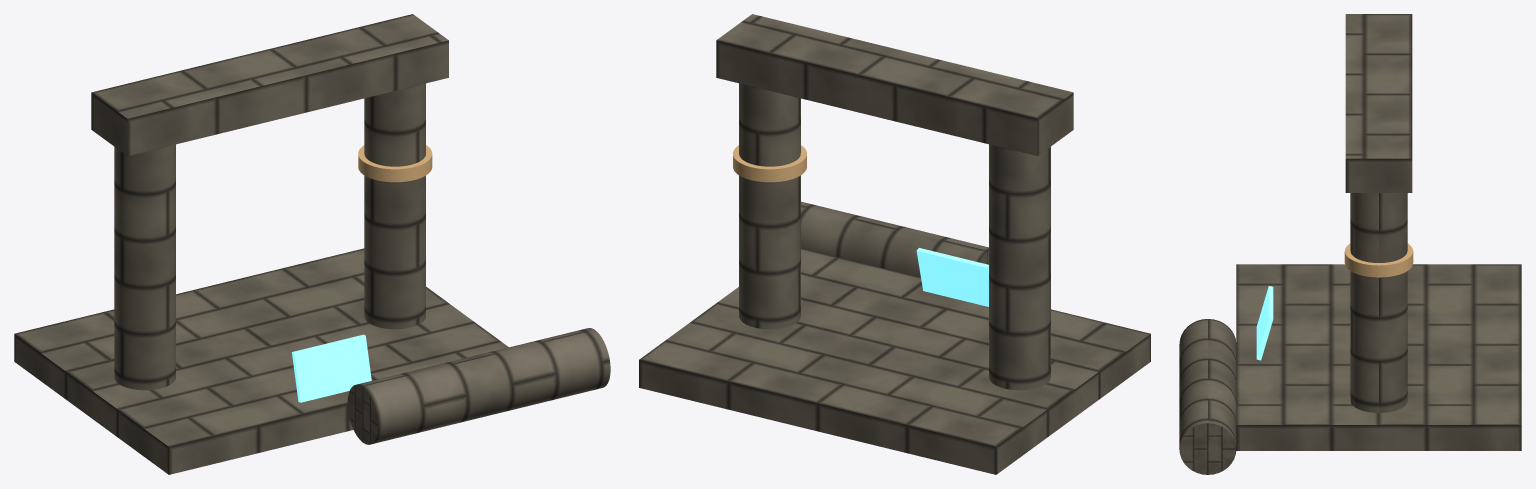
The model's file is ruins.glb.
The picture shows the model from 3 angles, left to right: view 1: azimuth 30°, elevation 25°; view 2: azimuth 150°, elevation 25°; view 3: azimuth 270°, elevation 25°; orthographic projection. The views are drawn at different scales.
Parts seen in each view (by area): view 1: Base, Lintel, Fallen, Pillar_L, Pillar_R, Plaque, BronzeRing; view 2: Base, Lintel, Pillar_L, Pillar_R, Fallen, Plaque, BronzeRing; view 3: Base, Lintel, Pillar_R, Fallen, BronzeRing, Plaque.
Part boxes in pixels (left/top/right/bottom): Base: left=14, top=248, right=508, bottom=474; Lintel: left=91, top=14, right=448, bottom=156; Fallen: left=347, top=328, right=610, bottom=444; Pillar_L: left=114, top=144, right=175, bottom=390; Pillar_R: left=364, top=83, right=425, bottom=329; Plaque: left=292, top=334, right=371, bottom=402; BronzeRing: left=358, top=145, right=432, bottom=182; Base: left=639, top=248, right=1150, bottom=474; Lintel: left=716, top=14, right=1073, bottom=155; Pillar_L: left=989, top=144, right=1050, bottom=390; Pillar_R: left=739, top=83, right=800, bottom=329; Fallen: left=801, top=201, right=988, bottom=277; Plaque: left=916, top=248, right=988, bottom=306; BronzeRing: left=733, top=145, right=806, bottom=182; Base: left=1236, top=264, right=1521, bottom=450; Lintel: left=1345, top=14, right=1412, bottom=192; Pillar_R: left=1350, top=193, right=1407, bottom=412; Fallen: left=1179, top=319, right=1236, bottom=474; BronzeRing: left=1344, top=243, right=1413, bottom=277; Plaque: left=1256, top=286, right=1273, bottom=360.
Bounding box in the file's own units: 4.6 × 3.3 × 3.6.
3 materials, 1 textured.
